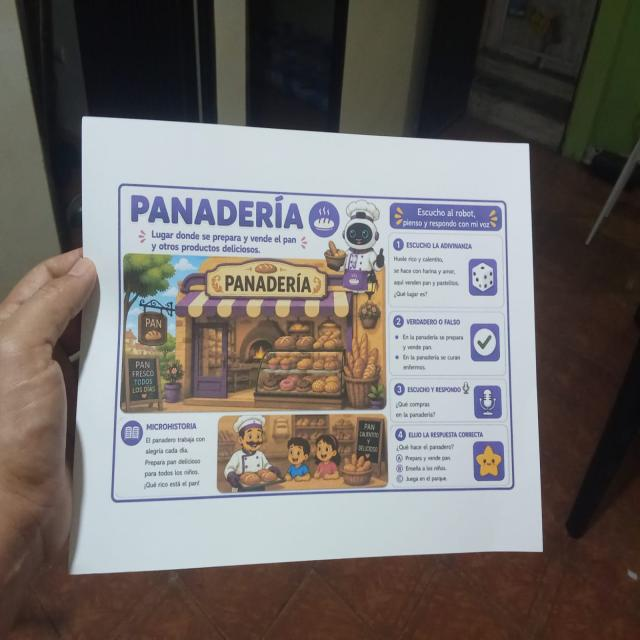panaderia: (107, 177, 519, 508)
